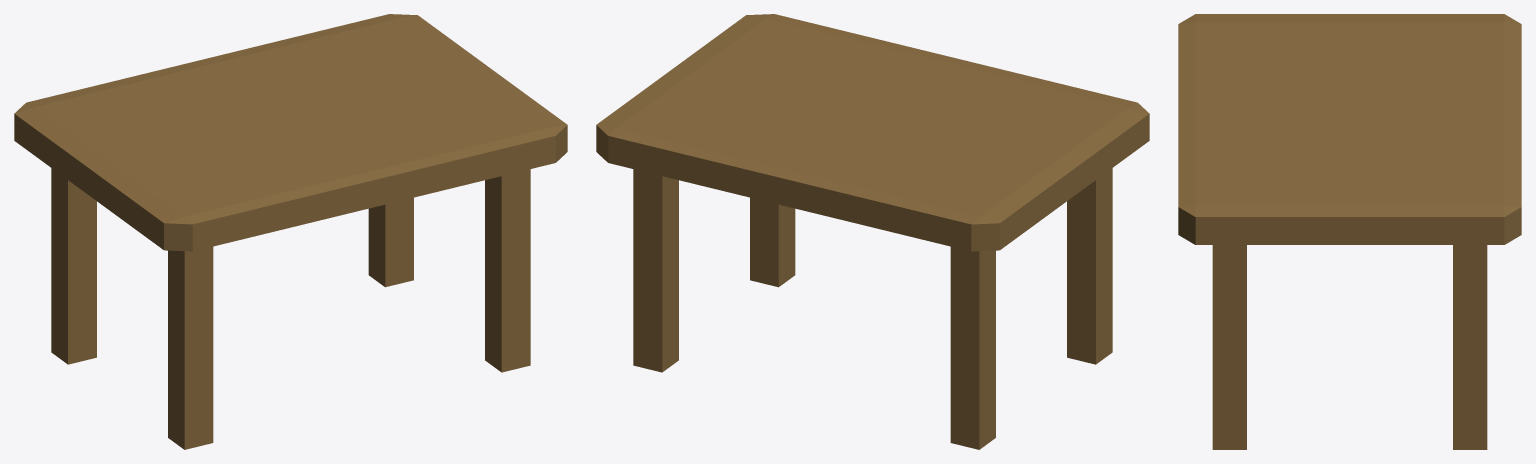
The model's file is square_table_2.glb.
The picture shows the model from 3 angles, left to right: view 1: azimuth 30°, elevation 25°; view 2: azimuth 150°, elevation 25°; view 3: azimuth 270°, elevation 25°; orthographic projection. The views are drawn at different scales.
Visible parts, largest first — view 1: Mesh_Mesh_head_geo.001_lambert2SG.001; view 2: Mesh_Mesh_head_geo.001_lambert2SG.001; view 3: Mesh_Mesh_head_geo.001_lambert2SG.001.
Boxes of the visible parts, <box> form: Mesh_Mesh_head_geo.001_lambert2SG.001: <box>14,14,567,449</box>; Mesh_Mesh_head_geo.001_lambert2SG.001: <box>596,14,1149,449</box>; Mesh_Mesh_head_geo.001_lambert2SG.001: <box>1178,14,1521,449</box>.
Size of the model in its own units: 7 by 4 by 5.
